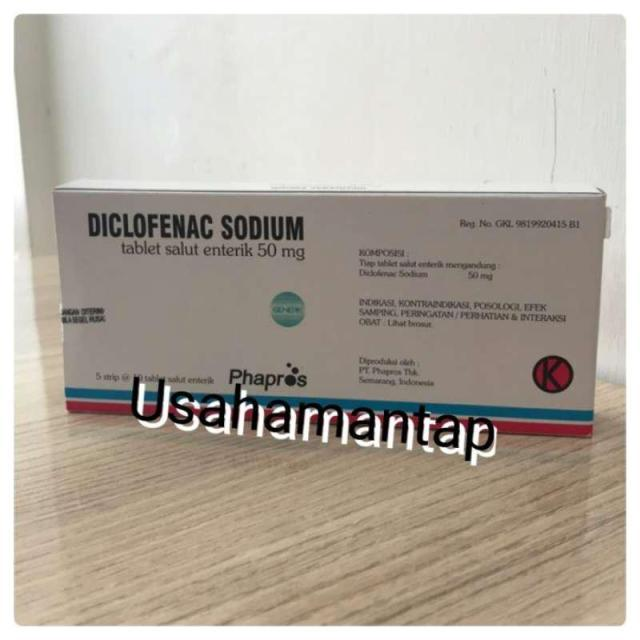drug-name: (83, 208, 308, 243)
